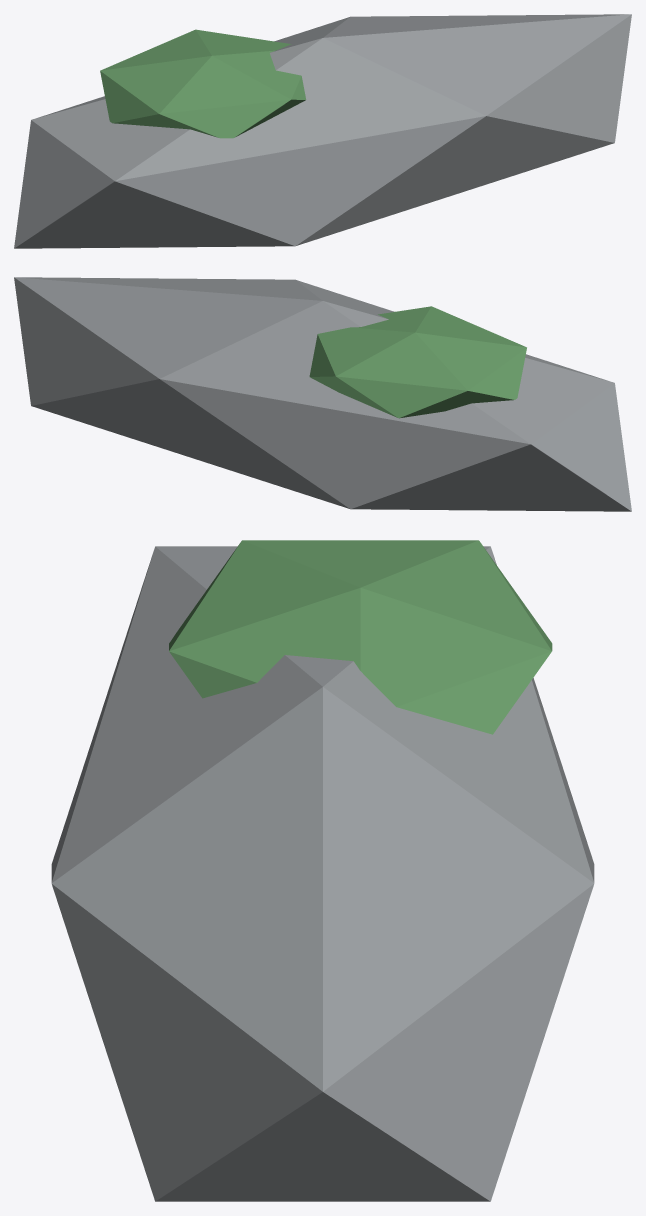
The model's file is rock_b.glb.
3 renders of one model, top to bottom at view 1: azimuth 30°, elevation 25°; view 2: azimuth 150°, elevation 25°; view 3: azimuth 270°, elevation 25°, orthographic. The views are drawn at different scales.
Visible parts, largest first — view 1: rock, moss; view 2: rock, moss; view 3: rock, moss.
Boxes of the visible parts, x1,y1,x2,y2 form: rock: (14,14,631,248); moss: (100,29,306,138); rock: (14,277,631,511); moss: (309,306,526,418); rock: (51,546,594,1201); moss: (169,540,552,734).
Bounding box in the file's own units: 1.52 × 0.44 × 0.5784.
